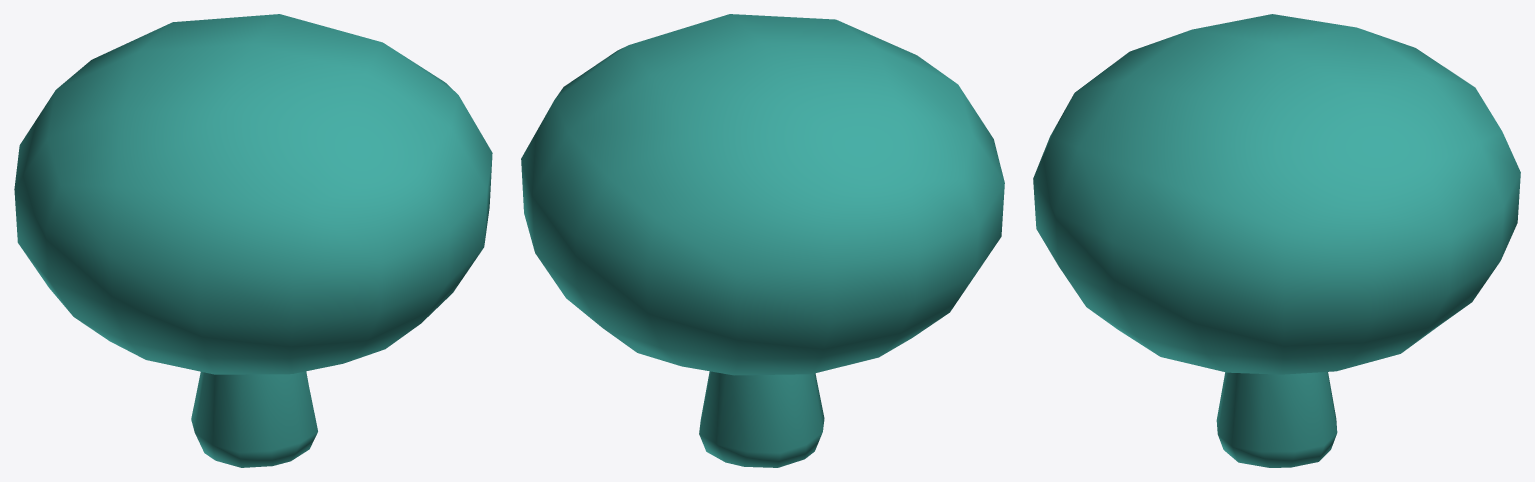
The model's file is shroomGlow-compressed.glb.
3 renders of one model, left to right at view 1: azimuth 30°, elevation 25°; view 2: azimuth 150°, elevation 25°; view 3: azimuth 270°, elevation 25°, orthographic.
Parts seen in each view (by area): view 1: shroomGlow; view 2: shroomGlow; view 3: shroomGlow.
Part boxes in pixels (box(x1,y1,x2,y2)): shroomGlow: box(14, 14, 492, 467); shroomGlow: box(521, 14, 1004, 467); shroomGlow: box(1033, 14, 1520, 467).
Bounding box in the file's own units: 0.442 × 0.4 × 0.442.
